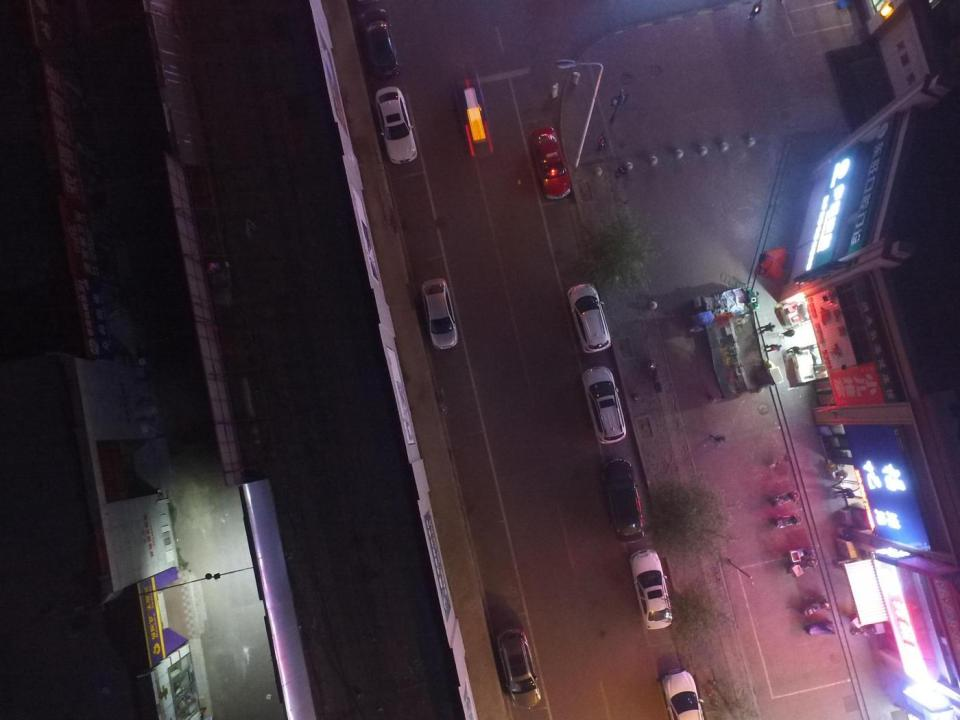car: (630, 550, 672, 630), (374, 86, 416, 165), (455, 76, 493, 159), (530, 126, 571, 200), (567, 284, 611, 352), (421, 278, 458, 349), (360, 9, 397, 77), (662, 670, 704, 720)
van: (601, 458, 644, 543), (582, 366, 626, 444), (497, 630, 540, 708)
